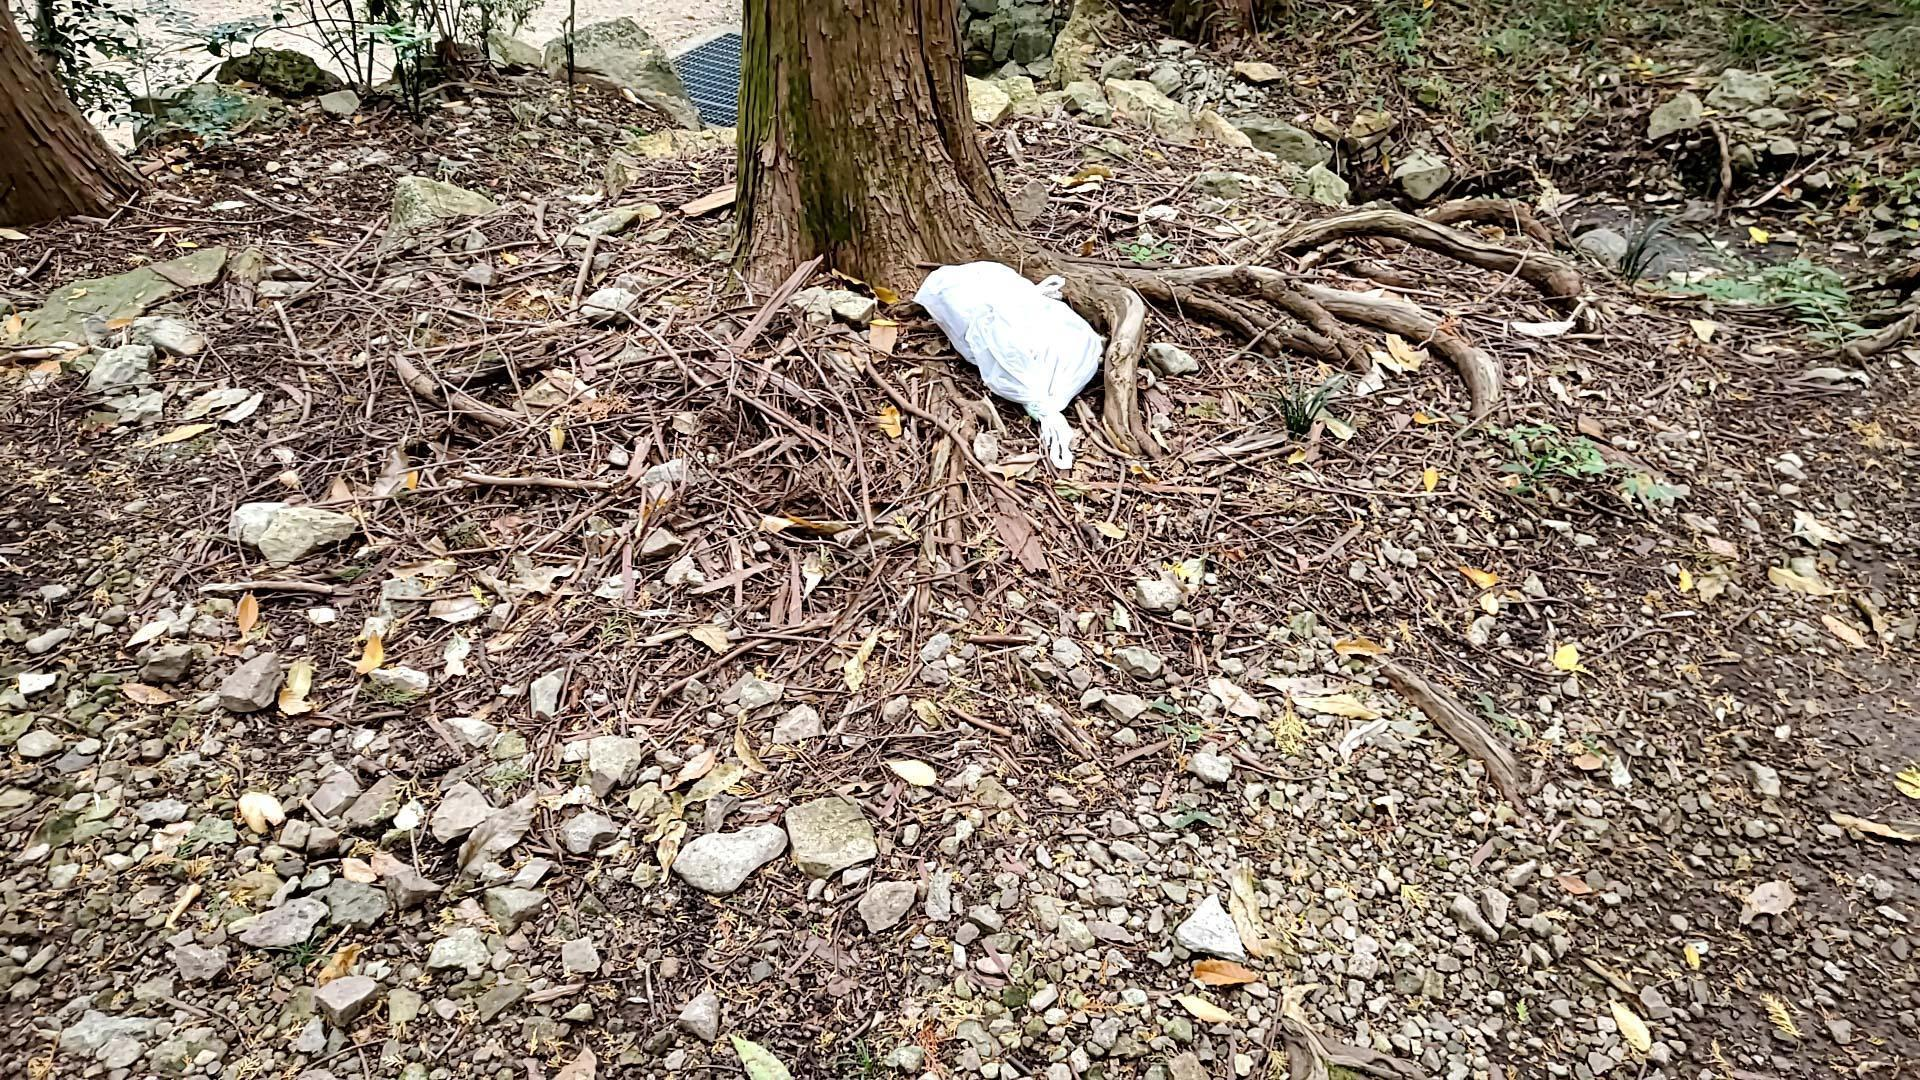white_bag: (901, 251, 1135, 479)
